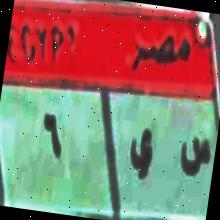6: (34, 102, 67, 178)
seen: (174, 122, 214, 194)
yaa: (124, 122, 158, 186)
